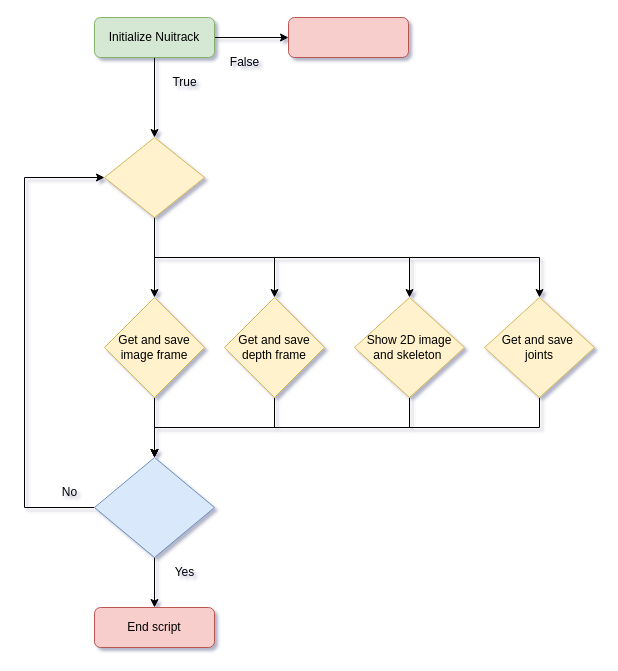
Some shapes in this 618 by 671 pixel diagram are drawn without their labels. The box of each missing label's shape, as (x1, y1, x2, y2) in pixels:
Error: (288, 16, 408, 58)
Key pressed or window closed: (94, 456, 214, 558)
while True: (104, 136, 204, 218)
